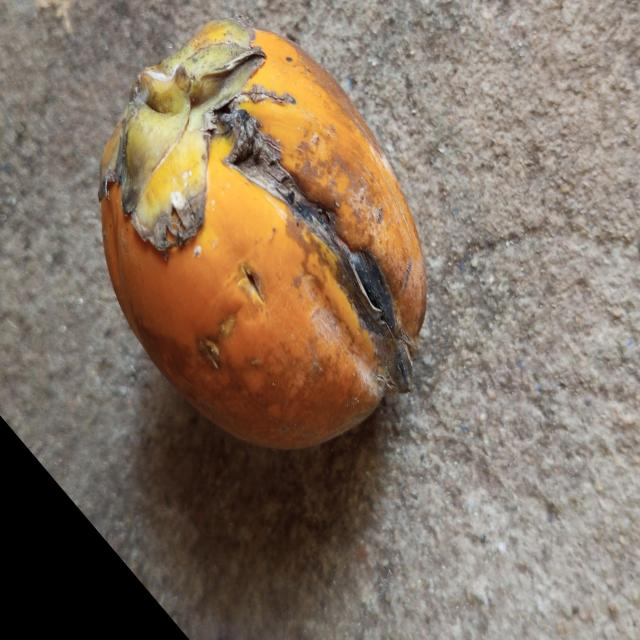damaged: (99, 20, 426, 448)
